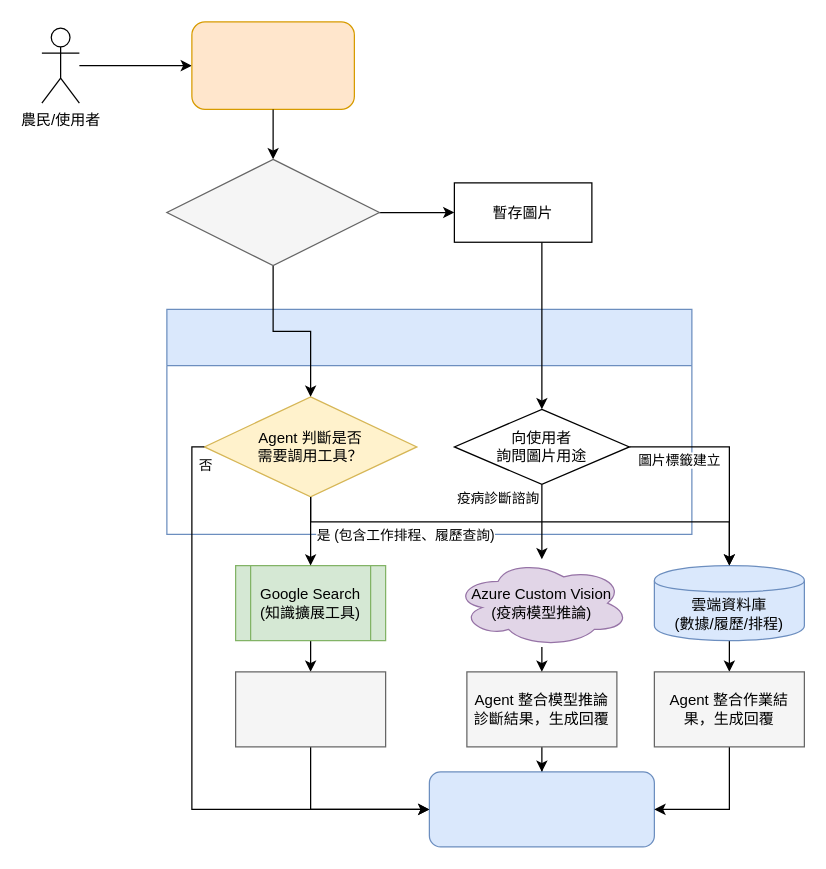
The diagram is 826 pixels wide and 869 high, and some of its shapes have lost their labels. The shapes that lost their labels are listed below. From the top down, each one's box as (x1, y1, x2, y2) in pixels, then its label:
(191, 21, 354, 109): 起始：農民發送請求 (文字諮詢或圖片上傳)
(166, 158, 379, 266): 判斷訊息類型 (文字諮詢 / 圖片判別)
(166, 308, 692, 534): Gemini AI Agent (知識諮詢核心)
(234, 671, 386, 747): Agent 整合知識庫與數據，生成回覆
(428, 771, 654, 847): 結束：結果或建議回傳至 LINE Bot 介面
